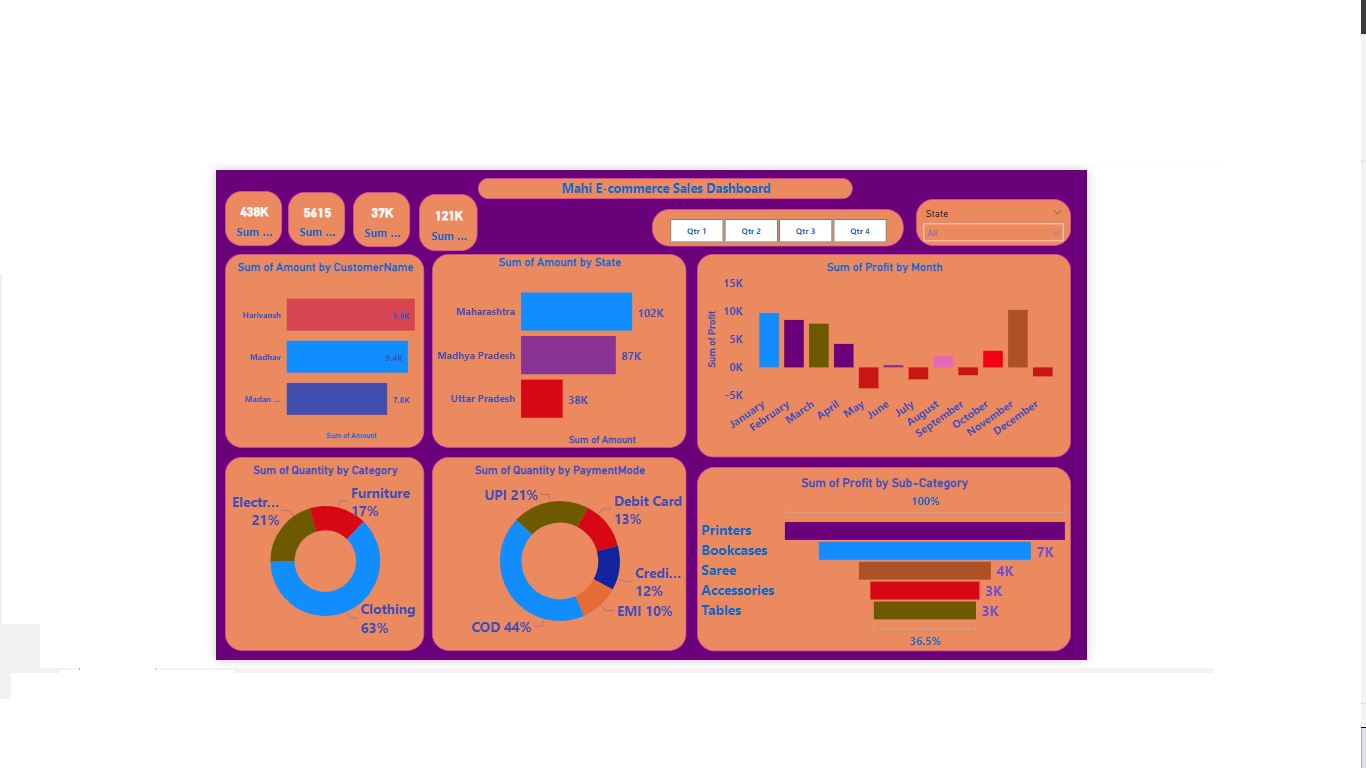

The page's visual inventory and layout, read from the dashboard file:
{"tool":"powerbi","page":{"name":"Page 1","canvas":[1280,720],"ordinal":0},"visuals":[{"type":"textbox","box":[385.5,11.3,551.3,31.2],"z":0},{"type":"clusteredColumnChart","fields":{"Category":["Orders.Order Date.Variation.Date Hierarchy.Month"],"Y":["Details.Profit"]},"box":[707.2,123.3,549.9,299.1],"z":1000},{"type":"funnel","fields":{"Category":["Details.Sub-Category"],"Y":["Details.Profit"]},"box":[707.2,436.5,549.9,270.7],"z":2000},{"type":"donutChart","fields":{"Category":["Details.Category"],"Y":["Details.Quantity"]},"box":[12.8,422.4,293.4,284.9],"z":3000},{"type":"donutChart","fields":{"Y":["Details.Quantity"],"Category":["Details.PaymentMode"]},"box":[317.5,422.4,374.2,284.9],"z":4000},{"type":"card","fields":{"Values":["Details.Amount"]},"box":[12.8,31.2,83.6,80.8],"z":5000},{"type":"card","fields":{"Values":["Details.Quantity"]},"box":[106.3,32.6,83.6,79.4],"z":6000},{"type":"card","fields":{"Values":["Details.Profit"]},"box":[199.8,32.6,83.6,80.8],"z":7000},{"type":"card","fields":{"Values":["Details.AOV"]},"box":[299.1,32.6,86.5,83.6],"z":8000},{"type":"barChart","fields":{"Category":["Orders.State"],"Y":["Details.Amount"]},"box":[317.5,123.3,374.2,284.9],"z":9000},{"type":"barChart","fields":{"Category":["Orders.CustomerName"],"Y":["Details.Amount"]},"box":[12.8,123.3,293.4,284.9],"z":10000},{"type":"slicer","fields":{"Values":["Orders.Order Date.Variation.Date Hierarchy.Quarter"]},"box":[640.6,56.7,369.9,55.3],"z":11000},{"type":"slicer","fields":{"Values":["Orders.State"]},"box":[1029,42.5,228.2,69.4],"z":12000}]}

Visuals, with their boxes in screenshot pixels (x1, y1, x2, y2), scaled from the page's 1280x720 canvas onto the 1366x768 screenshot:
textbox: locate(411, 12, 1000, 45)
clusteredColumnChart - Orders.Order Date.Variation.Date Hierarchy.Month x Details.Profit: locate(755, 132, 1342, 451)
funnel - Details.Sub-Category x Details.Profit: locate(755, 466, 1342, 754)
donutChart - Details.Category x Details.Quantity: locate(14, 451, 327, 754)
donutChart - Details.Quantity x Details.PaymentMode: locate(339, 451, 738, 754)
card - Details.Amount: locate(14, 33, 103, 119)
card - Details.Quantity: locate(113, 35, 203, 119)
card - Details.Profit: locate(213, 35, 302, 121)
card - Details.AOV: locate(319, 35, 412, 124)
barChart - Orders.State x Details.Amount: locate(339, 132, 738, 435)
barChart - Orders.CustomerName x Details.Amount: locate(14, 132, 327, 435)
slicer - Orders.Order Date.Variation.Date Hierarchy.Quarter: locate(684, 60, 1078, 119)
slicer - Orders.State: locate(1098, 45, 1342, 119)
